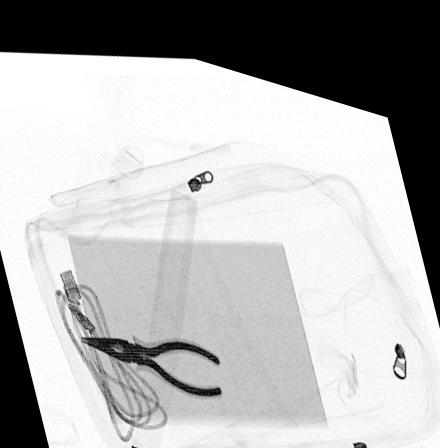Pliers: (79, 325, 223, 388)
